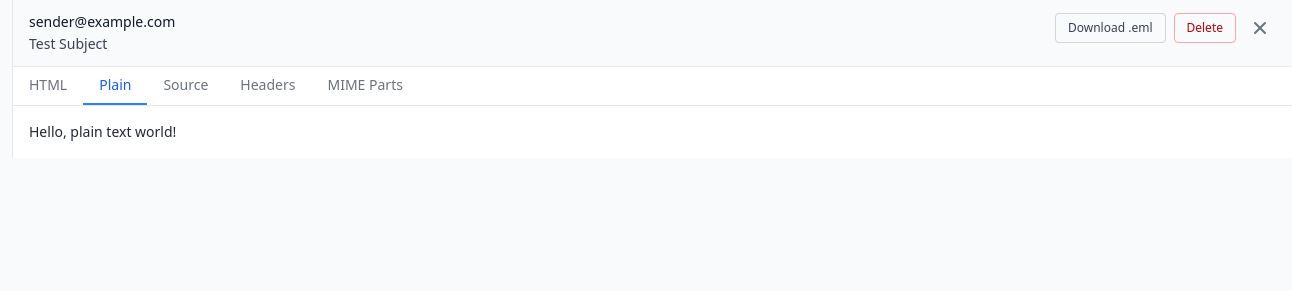
Scenario: MessageDetail: tab rendering › switches to Headers tab on click
This screenshot has width=1292, height=291.
Click the tab with test id "tab-headers". click: point(268, 86)
box: [224,67,311,105]
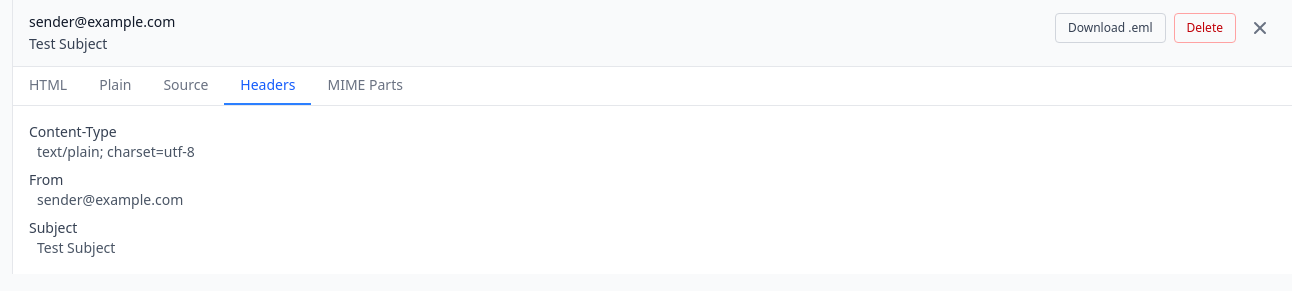
Expected: the panel with test id "panel-headers" is shown, [29,122,195,257]
